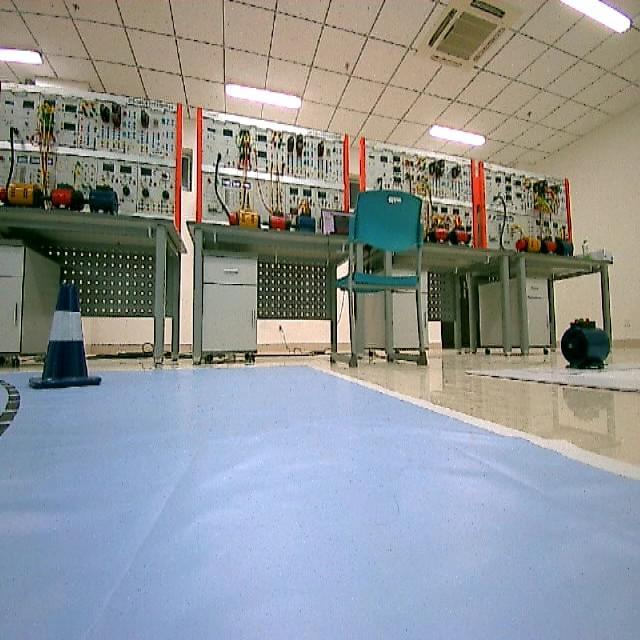obstacle: (33, 280, 104, 392)
